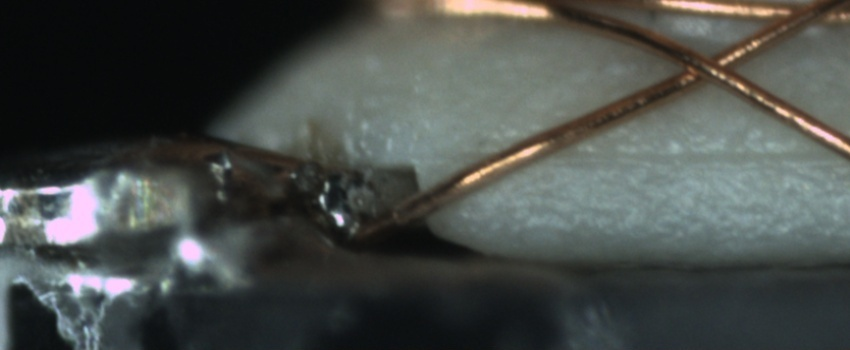CL: (665, 38, 754, 92)
DL: (490, 127, 849, 191)
